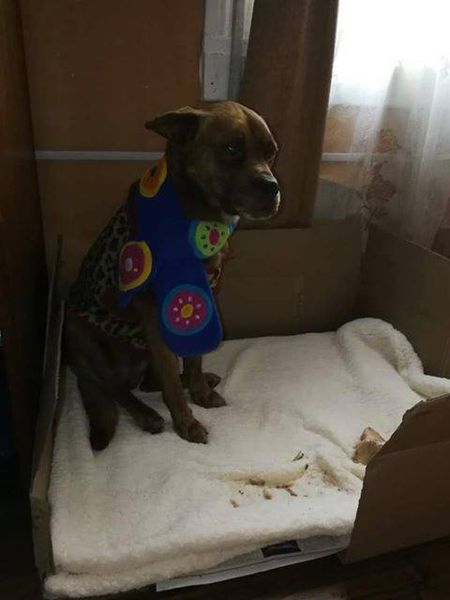dog: (47, 94, 296, 463)
